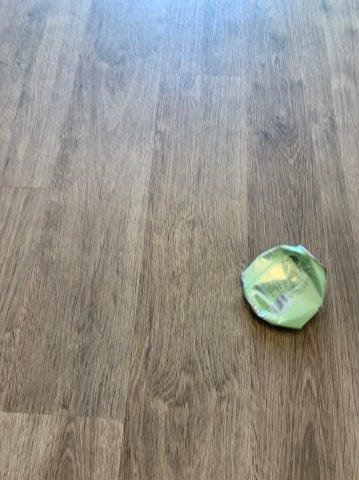kaleng: (243, 246, 326, 327)
